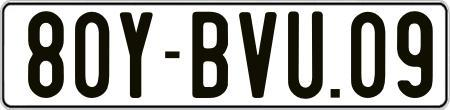0: (351, 10, 389, 102), (75, 9, 110, 101)
8: (28, 10, 67, 99)
9: (394, 9, 429, 99)
B: (191, 12, 231, 98)
U: (286, 10, 327, 98)
V: (239, 12, 280, 100)
Y: (120, 11, 159, 97)
